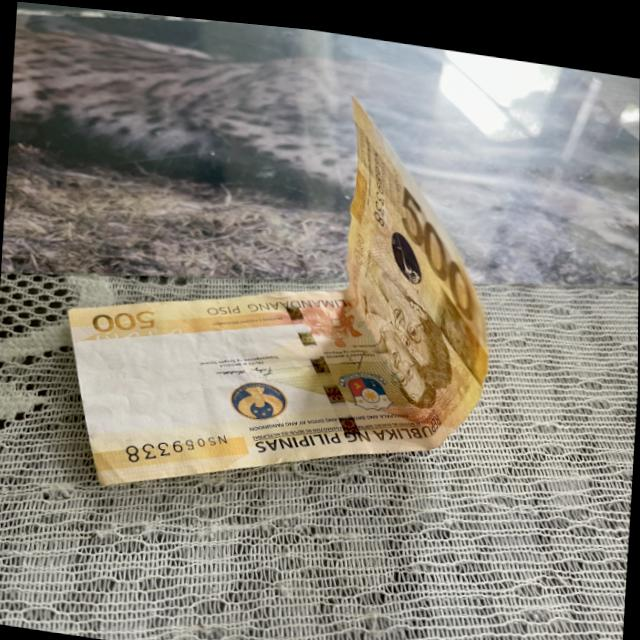concealed_value: (431, 278, 491, 378)
optically_variable_device: (377, 211, 432, 290)
security_thread: (277, 284, 370, 445)
see_through_mark: (89, 317, 194, 345)
serial_number: (118, 425, 236, 466), (367, 139, 384, 223)
value: (391, 171, 478, 315)
value_watermark: (97, 345, 131, 381)
watermark: (107, 326, 239, 443)
